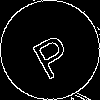P: (25, 25, 76, 81)
